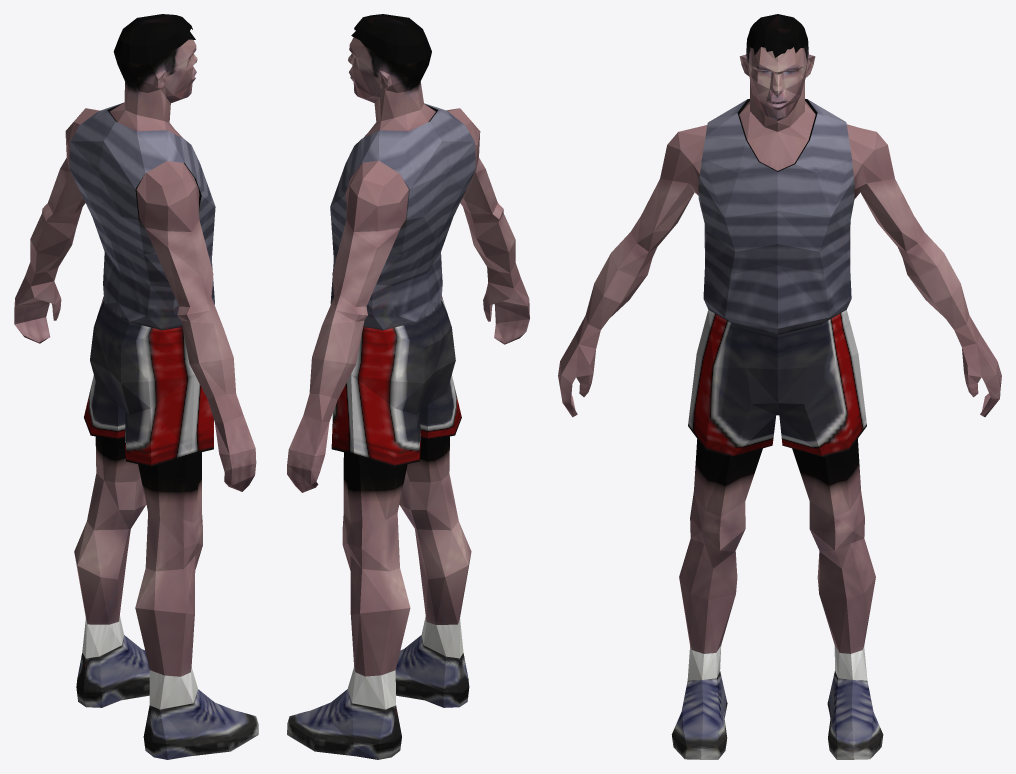
File: wmyjg.obj
3 views of the same model, side by side, from view 1: azimuth 30°, elevation 25°; view 2: azimuth 150°, elevation 25°; view 3: azimuth 270°, elevation 25° (orthographic).
Parts seen in each view (by area): view 1: _Pelvis; view 2: _Pelvis; view 3: _Pelvis.
Part boxes in pixels (box(x1,y1,x2,y2)): _Pelvis: box(14, 14, 258, 759); _Pelvis: box(287, 14, 529, 759); _Pelvis: box(558, 14, 1001, 759).
Size of the model in its own units: 0.3399 by 1.85 by 1.04.
Materials: 1 (1 with a texture image).
